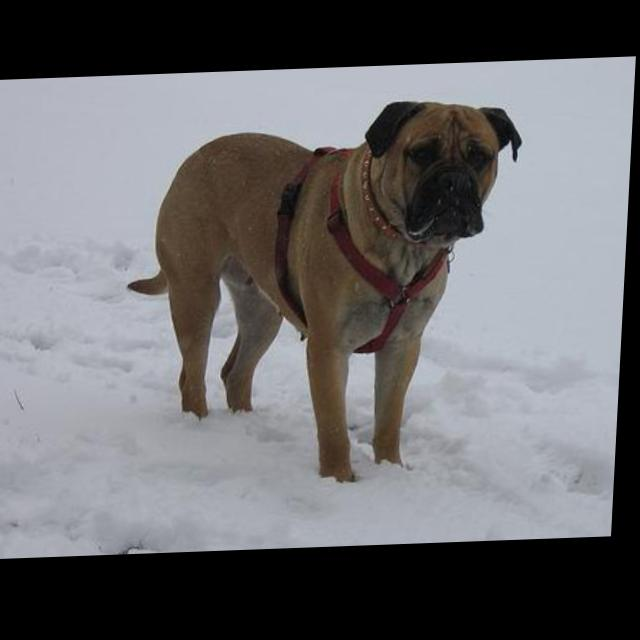bullmastiff: (124, 100, 529, 494)
